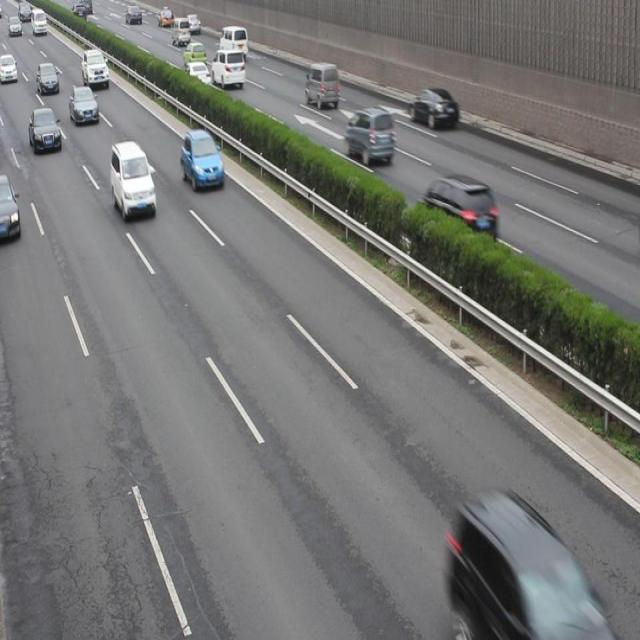car: (450, 494, 610, 640), (421, 173, 498, 244), (110, 141, 156, 219), (345, 108, 395, 163), (179, 132, 224, 192), (408, 88, 458, 131), (29, 108, 62, 154), (1, 172, 20, 242), (212, 49, 245, 87), (70, 86, 100, 123), (82, 50, 110, 87), (184, 63, 210, 89), (37, 63, 58, 95), (184, 41, 206, 64), (0, 55, 18, 82), (187, 15, 200, 32)
truck: (305, 61, 338, 107), (220, 25, 248, 56), (173, 18, 189, 42)
